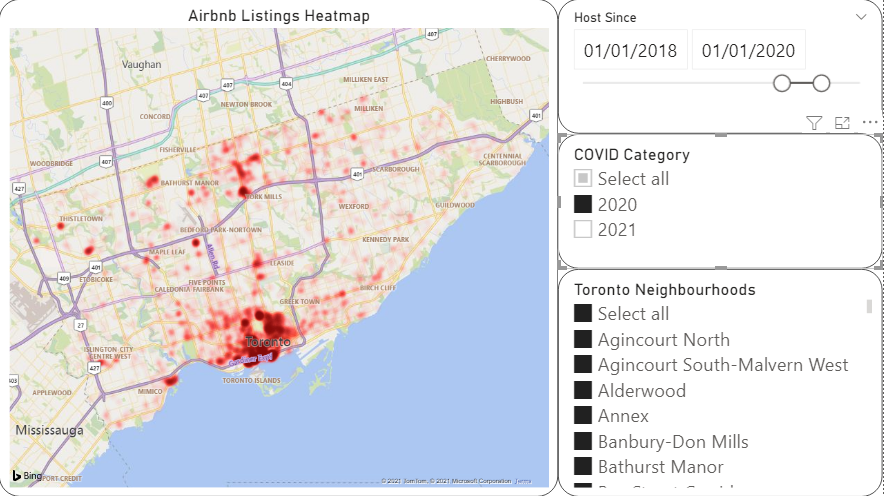

Layout of this report page (visuals, bound fields, positions):
{"tool":"powerbi","page":{"name":"Map","canvas":[1280,720],"ordinal":1},"visuals":[{"type":"slicer","fields":{"Values":["Date_Host.Date"]},"box":[809.7,0,470.3,195.3],"z":0},{"type":"slicer","fields":{"Values":["airbnb_listings.Year"]},"box":[809.7,195.3,470.3,195.3],"z":1000},{"type":"slicer","fields":{"Values":["airbnb_listings.neighbourhood_cleansed"]},"box":[809.7,390.6,470.3,330],"z":2000},{"type":"map","title":"Airbnb Listings Heatmap","fields":{"Size":["Sum(airbnb_listings.Count)"],"Y":["airbnb_listings.latitude"],"X":["airbnb_listings.longitude"]},"box":[0,0,809.7,720.6],"z":3000}]}

Visuals, with their boxes in screenshot pixels (x1, y1, x2, y2), scaled from the page's 1280x720 canvas onto the 884x496 screenshot:
slicer - Date_Host.Date: select_region(559, 0, 883, 135)
slicer - airbnb_listings.Year: select_region(559, 135, 883, 269)
slicer - airbnb_listings.neighbourhood_cleansed: select_region(559, 269, 883, 495)
"Airbnb Listings Heatmap" map: select_region(0, 0, 559, 495)
